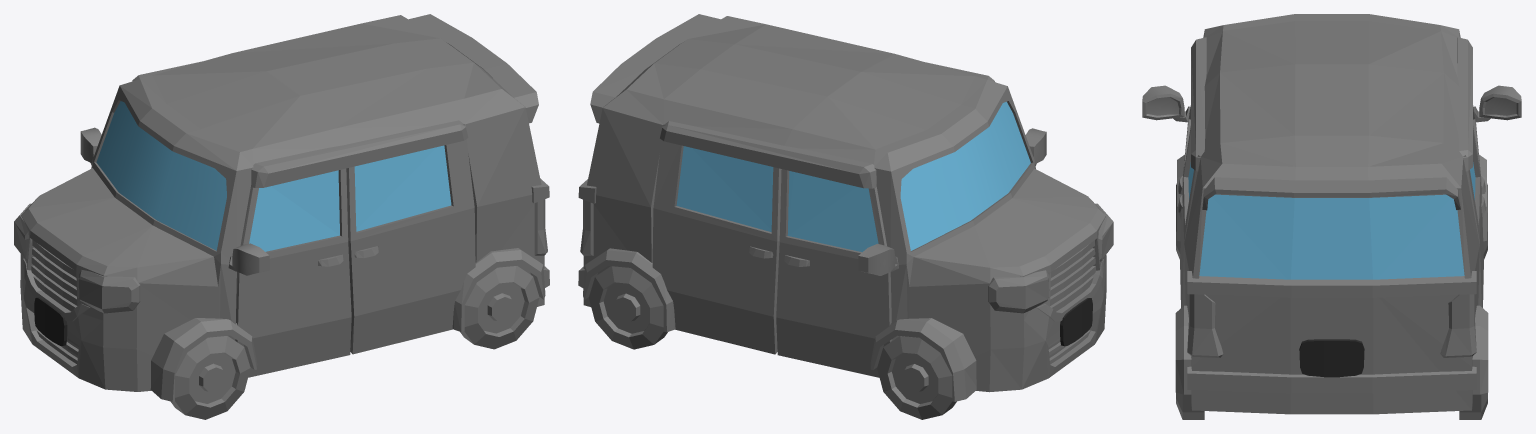
File: SM_car_02.fbx
3 renders of one model, left to right at view 1: azimuth 30°, elevation 25°; view 2: azimuth 150°, elevation 25°; view 3: azimuth 270°, elevation 25°, orthographic. The views are drawn at different scales.
Parts seen in each view (by area): view 1: Object32356; view 2: Object32356; view 3: Object32356.
Part boxes in pixels (x1,y1,x2,y2): Object32356: (14,14,549,419); Object32356: (578,14,1113,419); Object32356: (1142,14,1521,419).
Bounding box in the file's own units: 135 × 72.95 × 92.24.
